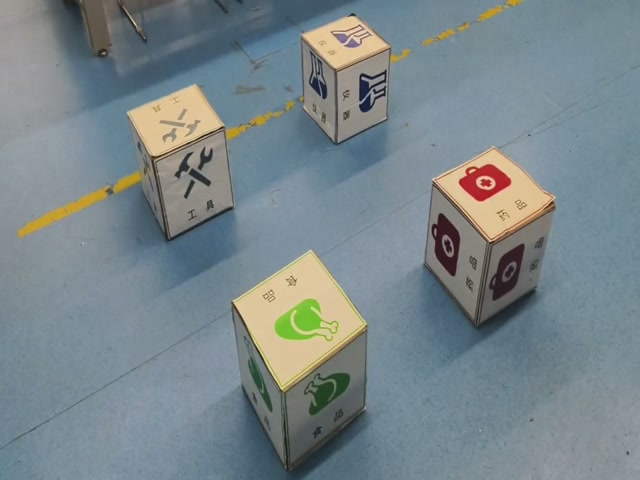Cube_food: (228, 243, 367, 390)
Cube_ins: (300, 13, 393, 74)
Cube_medicine: (432, 146, 556, 244)
Cube_tool: (127, 81, 224, 160)
